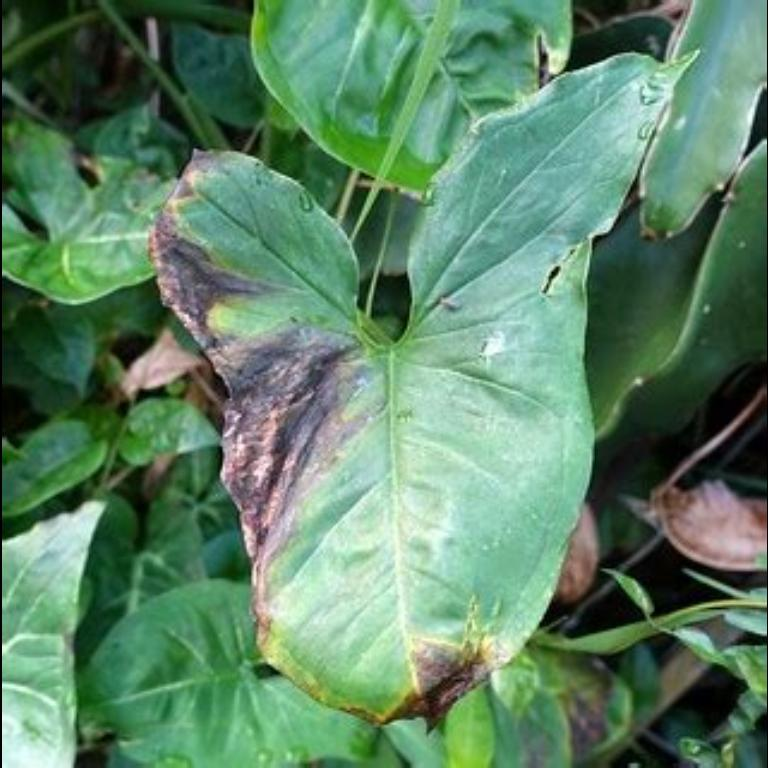blight: (143, 146, 378, 646), (397, 586, 509, 748)
